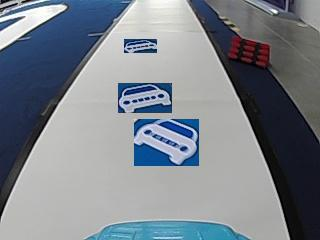bomb: (227, 36, 271, 68)
